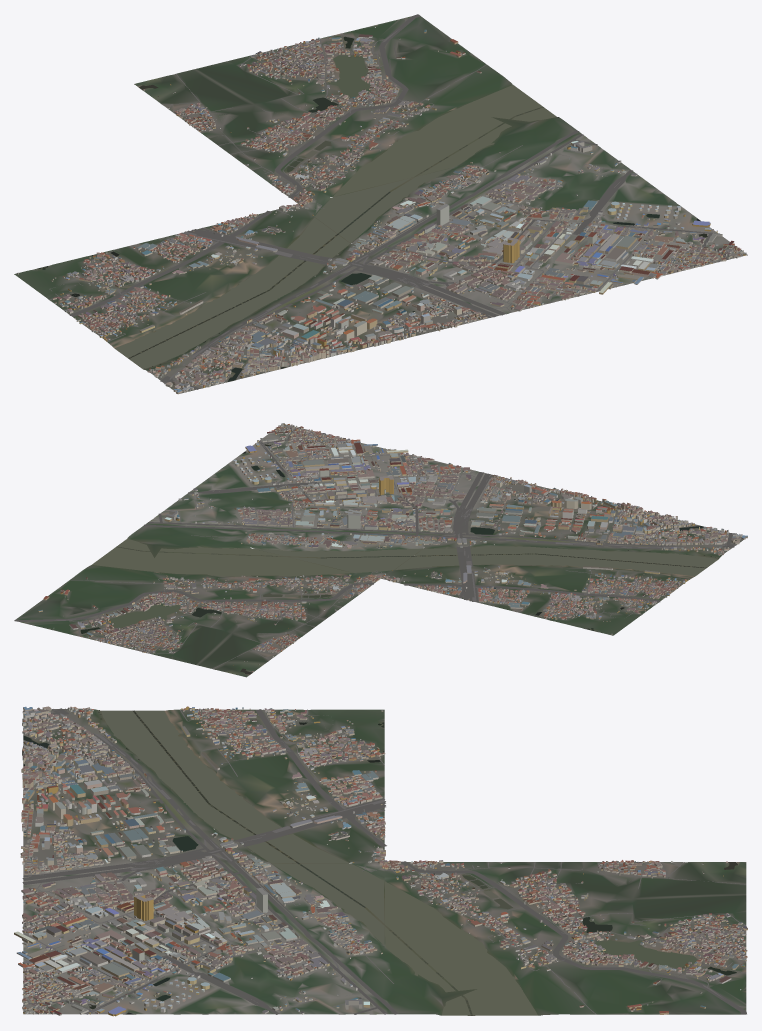
The picture shows the model from 3 angles, top to bottom: view 1: azimuth 30°, elevation 25°; view 2: azimuth 150°, elevation 25°; view 3: azimuth 270°, elevation 25°; orthographic projection. The views are drawn at different scales.
Visible parts, largest first — view 1: ground, buildings, water, roads; view 2: ground, buildings, water, roads; view 3: ground, buildings, water, roads.
Part boxes in pixels (x1,y1,x2,y2): ground: [14, 16, 747, 393]; buildings: [16, 27, 746, 394]; water: [37, 36, 707, 381]; roads: [49, 14, 742, 389]; ground: [16, 424, 743, 677]; buildings: [38, 423, 747, 672]; water: [80, 443, 718, 674]; roads: [14, 424, 736, 668]; ground: [23, 708, 746, 1015]; buildings: [14, 706, 747, 1016]; water: [23, 710, 737, 1015]; roads: [22, 708, 746, 1014].
Size of the model in its own units: 2826 by 92.61 by 2846.
